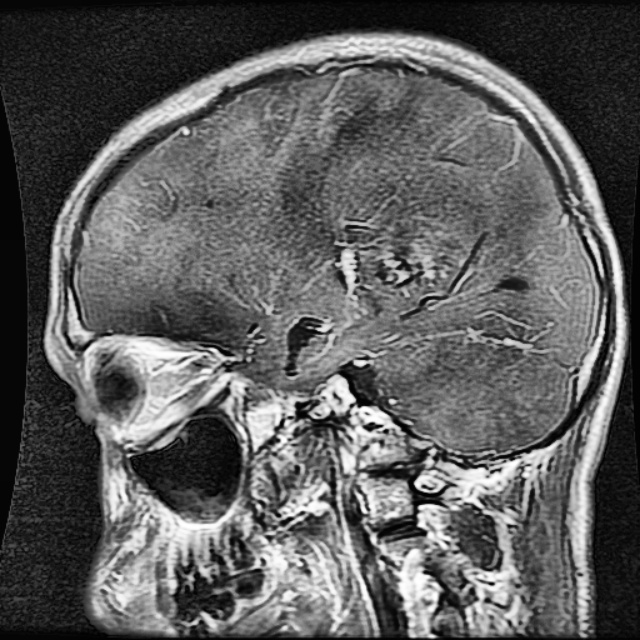Pituitary: (339, 217, 464, 299)
